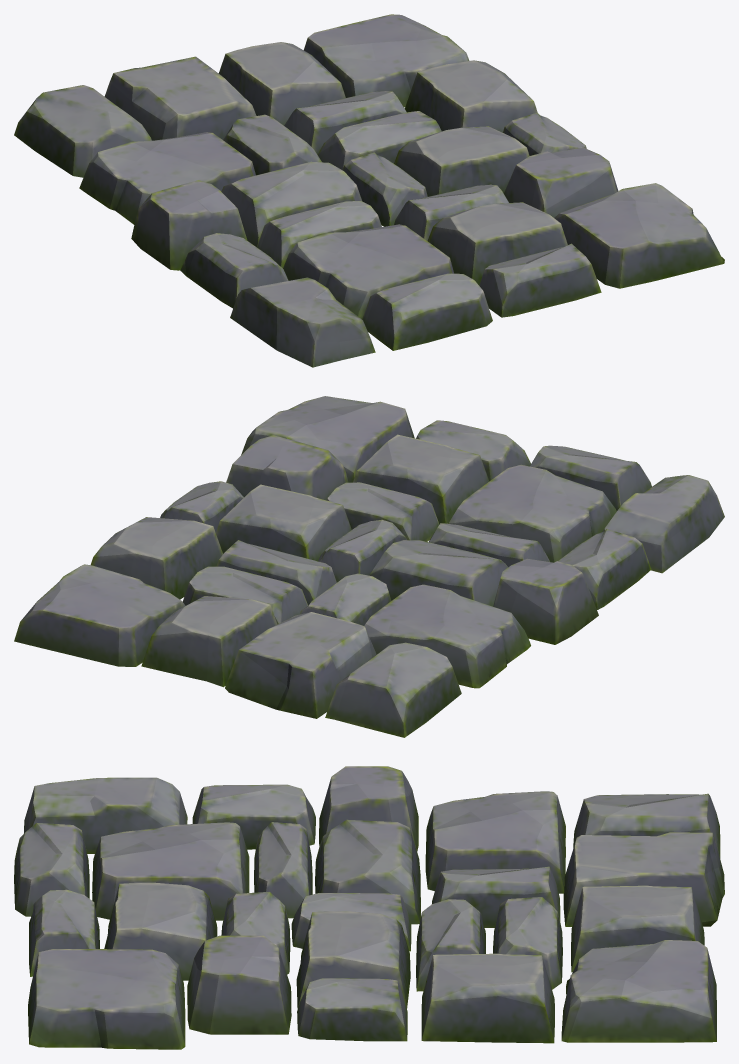
Rendered from RockPath_Square_Thin.glb.
3 renders of one model, top to bottom at view 1: azimuth 30°, elevation 25°; view 2: azimuth 150°, elevation 25°; view 3: azimuth 270°, elevation 25°, orthographic. The views are drawn at different scales.
Visible parts, largest first — view 1: RockPath_Square_Thin; view 2: RockPath_Square_Thin; view 3: RockPath_Square_Thin.
Part boxes in pixels (left/top/right/bottom): RockPath_Square_Thin: left=14, top=14, right=724, bottom=367; RockPath_Square_Thin: left=14, top=396, right=724, bottom=737; RockPath_Square_Thin: left=14, top=766, right=724, bottom=1049.
Size of the model in its own units: 1.56 by 0.1763 by 1.99.
1 material, 1 textured.
